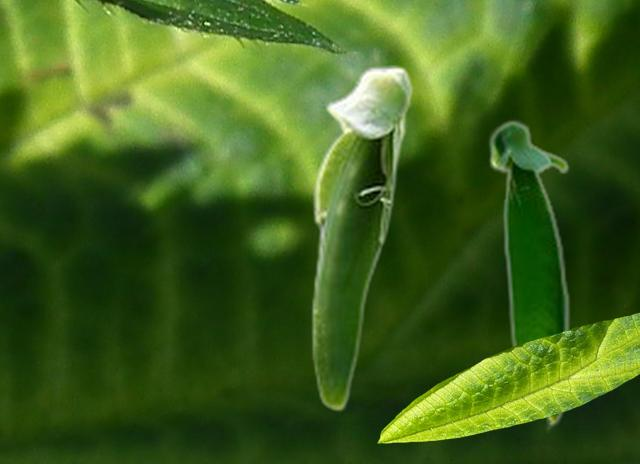pea: (310, 65, 413, 411), (487, 118, 570, 431)
